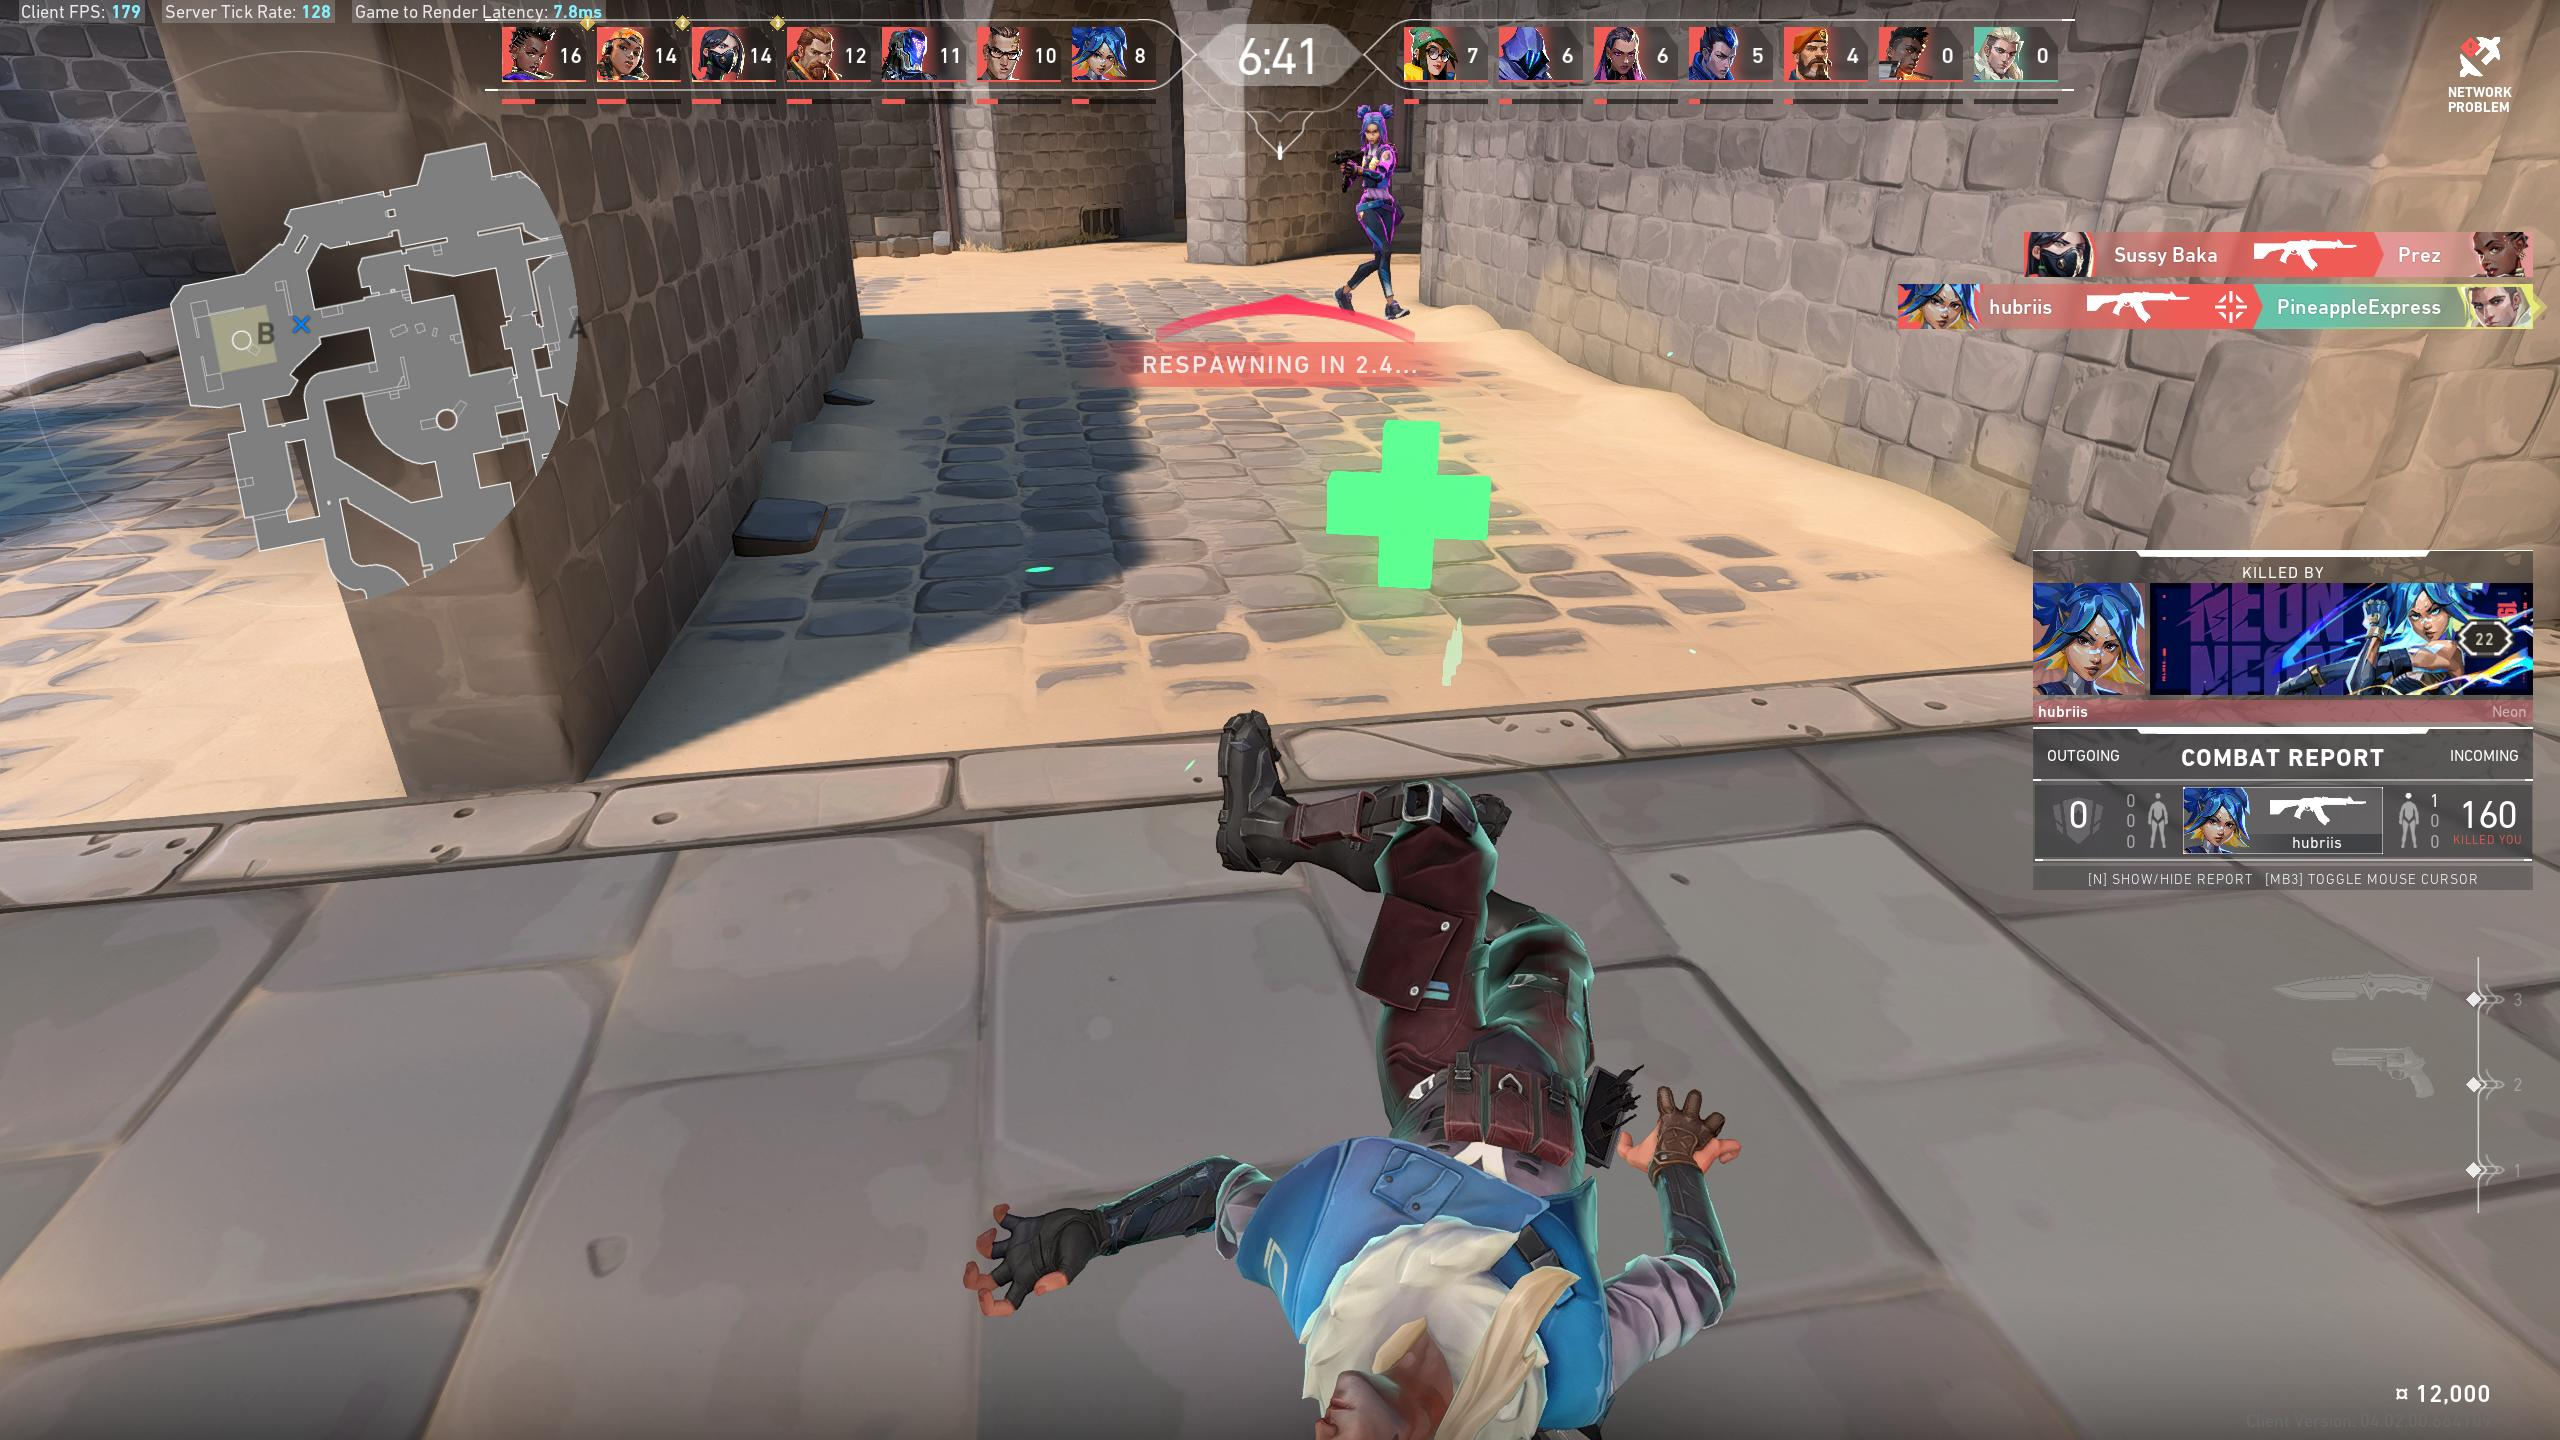enemyBody: (1364, 151, 1385, 199)
enemyHead: (1363, 114, 1385, 144)
